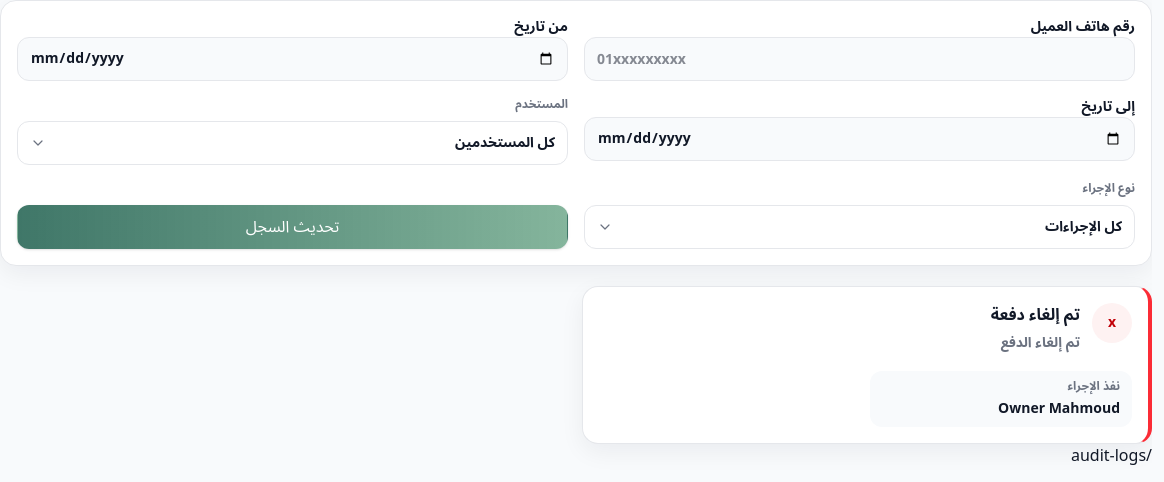
Scenario: AuditLogsPage › loads club users into the user filter with backend ids as option values
This screenshot has width=1164, height=482.
What coordinates should you click on to do the following:
click the button labelled "كل المستخدمين"
I would click on:
 (505, 142)
Its box is left=17, top=121, right=568, bottom=165.
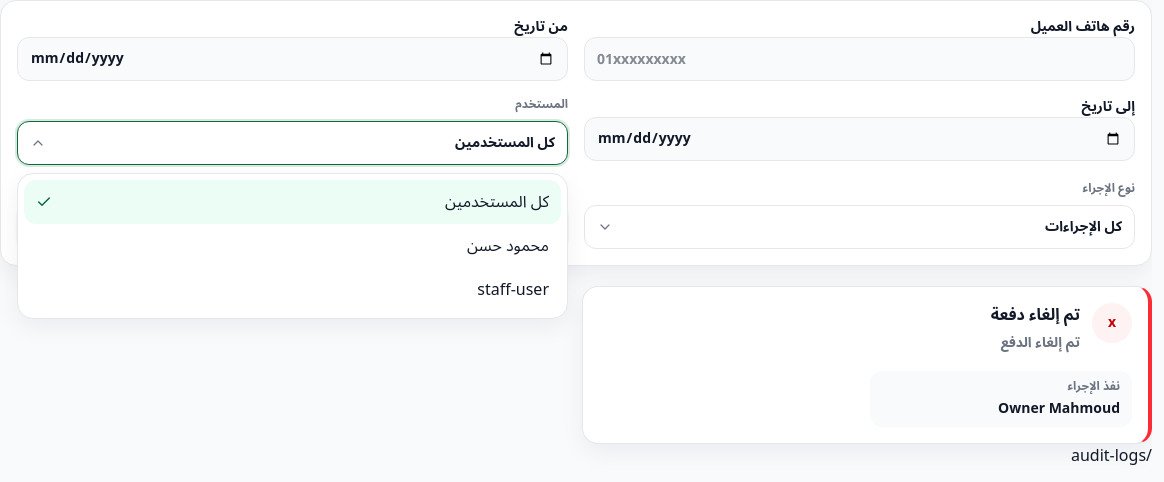
Expected: the option "كل المستخدمين" is empty, left=24, top=180, right=561, bottom=224
Expected: the option "محمود حسن" holds "7", left=24, top=224, right=561, bottom=268
Expected: the option "staff-user" holds "8", left=24, top=268, right=561, bottom=312
